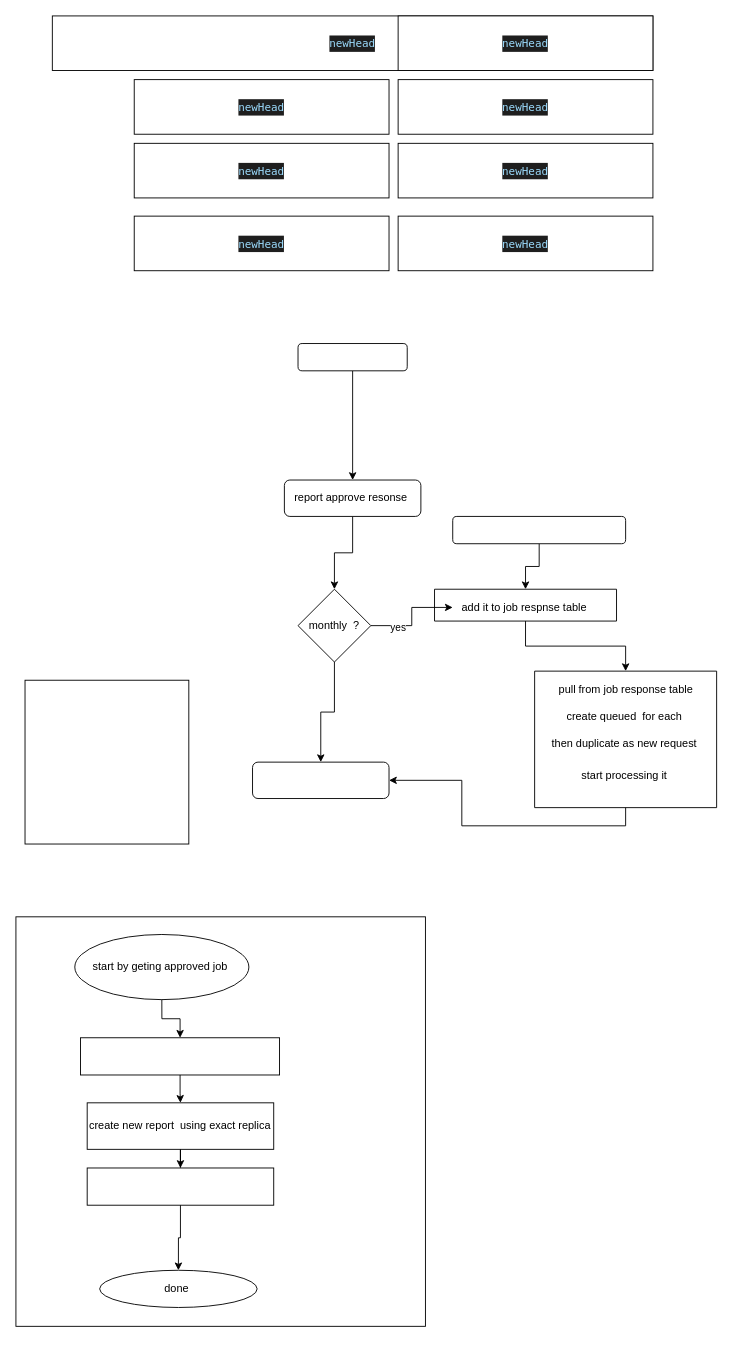
The diagram is 733 pixels wide and 1351 high, and some of its shapes have lost their labels. Each missing label, with the box of its shape:
generate report respons: (252, 761, 389, 799)
get the approved report: (80, 1037, 280, 1075)
Job monthly / on import event: (452, 516, 626, 544)
report request: (297, 343, 407, 371)
send the id and $data to the csv file generator: (86, 1167, 274, 1205)
status request_message requested_camps requested_data request_id: (24, 679, 189, 844)
